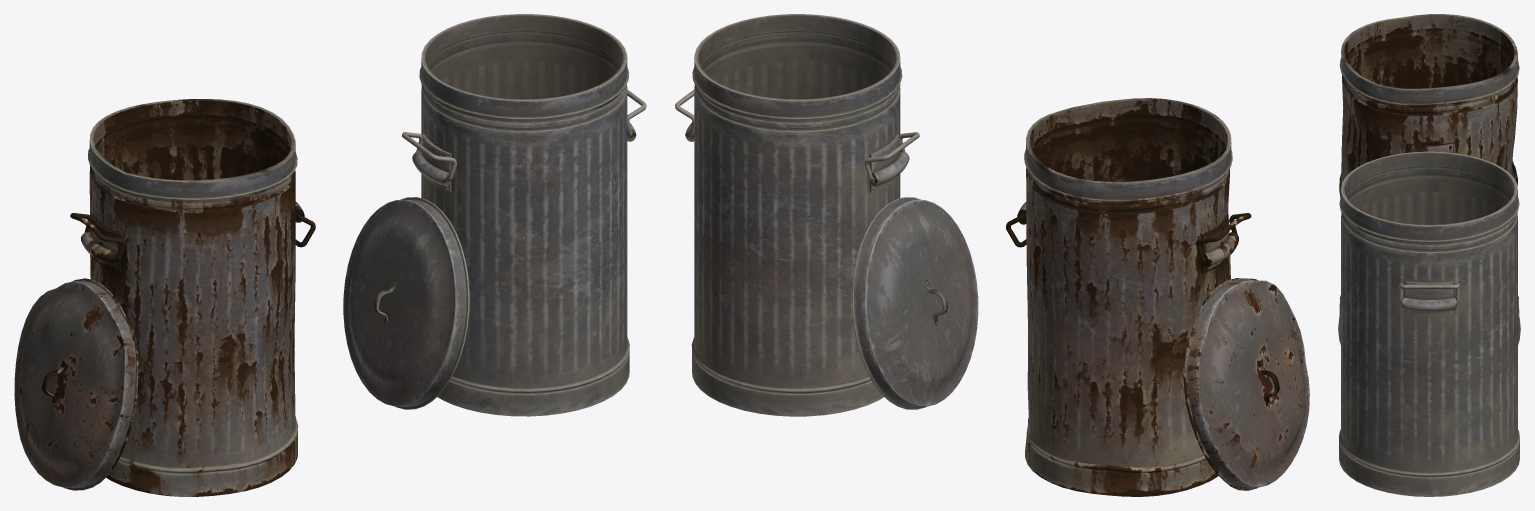
The model's file is metal-trash-can.glb.
The picture shows the model from 3 angles, left to right: view 1: azimuth 30°, elevation 25°; view 2: azimuth 150°, elevation 25°; view 3: azimuth 270°, elevation 25°; orthographic projection. The views are drawn at different scales.
Visible parts, largest first — view 1: metal_trash_can, metal_trash_can_rust, metal_trash_can_lid, metal_trash_can_rust_lid; view 2: metal_trash_can, metal_trash_can_rust, metal_trash_can_lid, metal_trash_can_rust_lid; view 3: metal_trash_can, metal_trash_can_rust, metal_trash_can_handle_right.
Boxes of the visible parts, x1=… form: metal_trash_can: x1=412, y1=14, x2=636, y2=416; metal_trash_can_rust: x1=81, y1=99, x2=304, y2=496; metal_trash_can_lid: x1=343, y1=197, x2=469, y2=409; metal_trash_can_rust_lid: x1=14, y1=278, x2=138, y2=490; metal_trash_can: x1=685, y1=14, x2=909, y2=416; metal_trash_can_rust: x1=1017, y1=98, x2=1238, y2=496; metal_trash_can_lid: x1=852, y1=197, x2=978, y2=409; metal_trash_can_rust_lid: x1=1183, y1=278, x2=1309, y2=490; metal_trash_can: x1=1338, y1=151, x2=1519, y2=496; metal_trash_can_rust: x1=1339, y1=14, x2=1519, y2=316; metal_trash_can_handle_right: x1=1399, y1=283, x2=1459, y2=303.
Bounding box in the file's own units: 1.78 × 0.9062 × 0.5563.
Materials: 2 (2 with a texture image).
